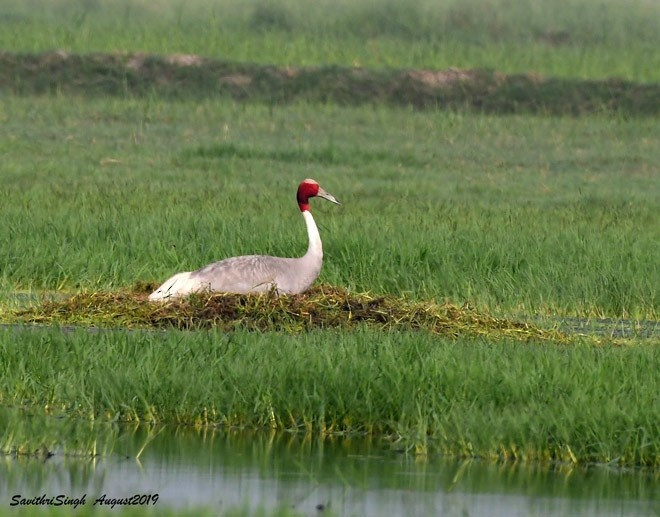crane: (152, 172, 350, 324)
